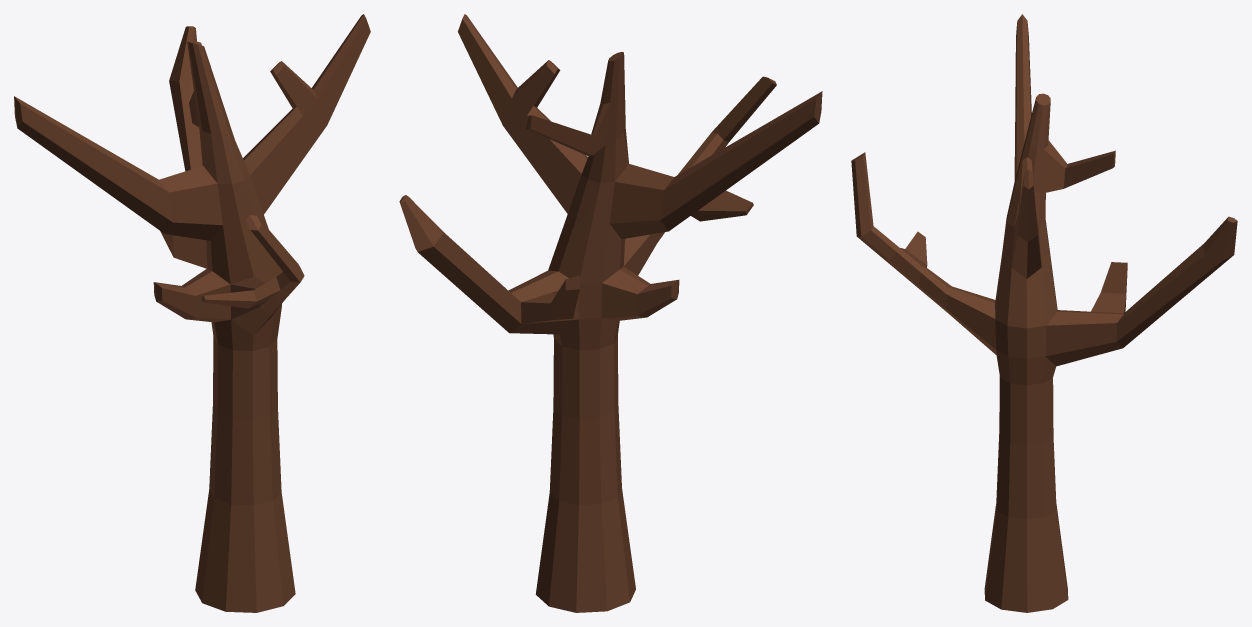
3 renders of one model, left to right at view 1: azimuth 30°, elevation 25°; view 2: azimuth 150°, elevation 25°; view 3: azimuth 270°, elevation 25°, orthographic. The views are drawn at different scales.
Parts seen in each view (by area): view 1: dead3; view 2: dead3; view 3: dead3.
Boxes of the visible parts, x1,y1,x2,y2 form: dead3: [14, 14, 370, 612]; dead3: [399, 14, 822, 612]; dead3: [851, 14, 1237, 612].
Bounding box in the file's own units: 363 × 535 × 389.
